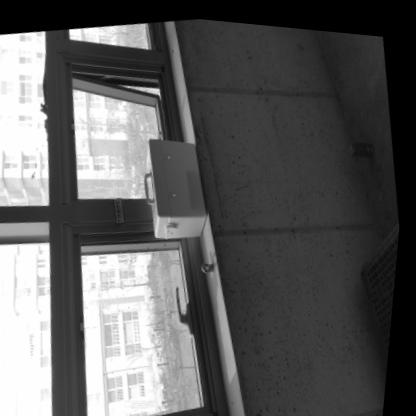DDL: (134, 124, 219, 240)
